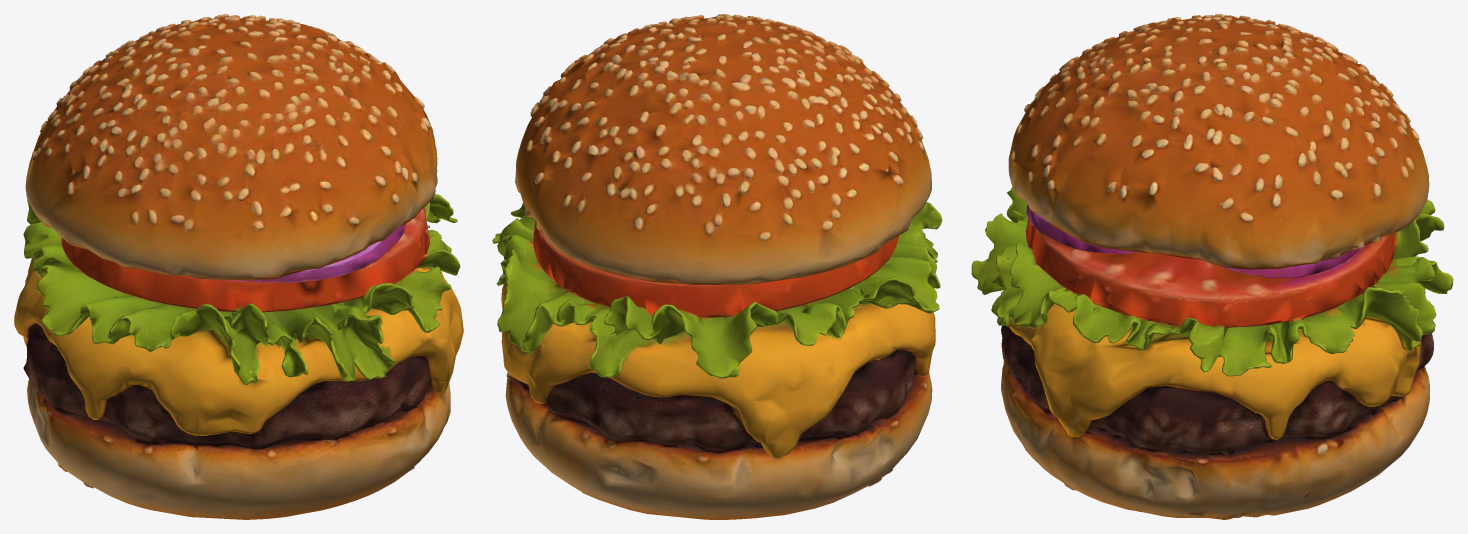
Rendered from burger.glb.
3 views of the same model, side by side, from view 1: azimuth 30°, elevation 25°; view 2: azimuth 150°, elevation 25°; view 3: azimuth 270°, elevation 25° (orthographic).
Parts seen in each view (by area): view 1: tripo_node_6a8972ac-7848-4441-862d-c63d5084f131; view 2: tripo_node_6a8972ac-7848-4441-862d-c63d5084f131; view 3: tripo_node_6a8972ac-7848-4441-862d-c63d5084f131.
Part boxes in pixels (x1=…): tripo_node_6a8972ac-7848-4441-862d-c63d5084f131: x1=14, y1=14, x2=463, y2=519; tripo_node_6a8972ac-7848-4441-862d-c63d5084f131: x1=492, y1=14, x2=942, y2=519; tripo_node_6a8972ac-7848-4441-862d-c63d5084f131: x1=971, y1=14, x2=1453, y2=519.
Bounding box in the file's own units: 0.9796 × 0.9279 × 0.9786.
Materials: 1 (1 with a texture image).
